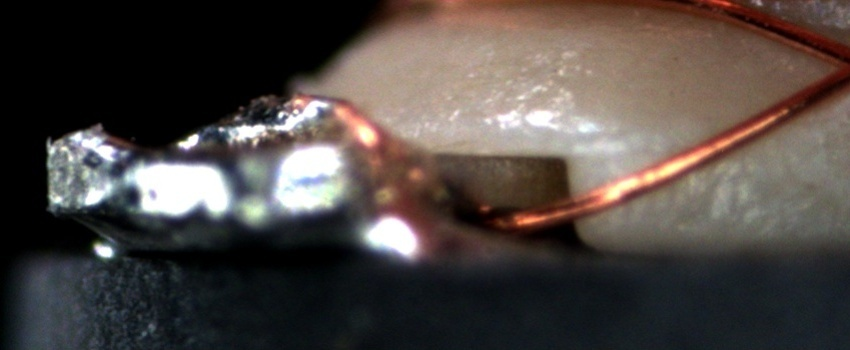DL: (554, 123, 684, 169)
TE: (272, 89, 412, 150)
